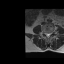CCS_normal: (47, 31, 49, 39)
LFS_normal: (50, 30, 52, 35)
LLS_normal: (49, 31, 50, 37)
RFS_normal: (44, 30, 45, 36)
RLS_normal: (45, 31, 47, 38)
